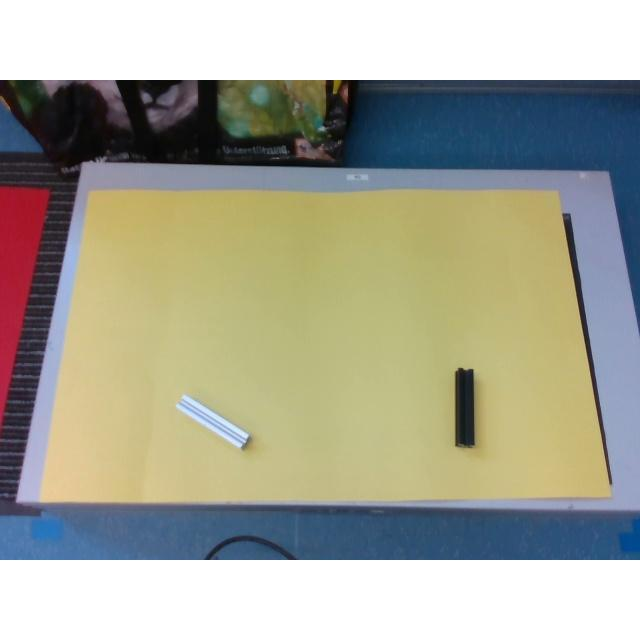F20_20_B: (454, 368, 474, 444)
F20_20_G: (175, 394, 249, 446)
